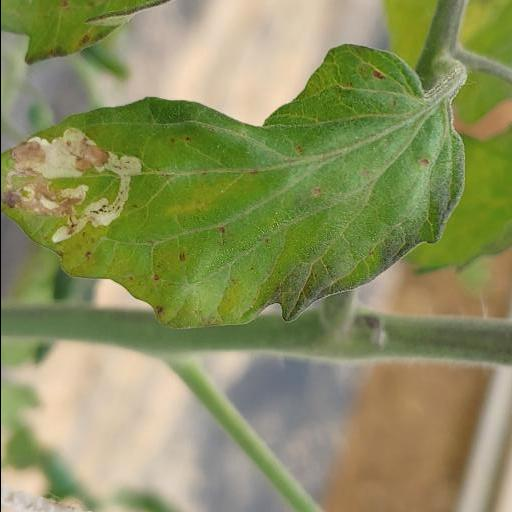Leaf Miner: (1, 45, 461, 327)
